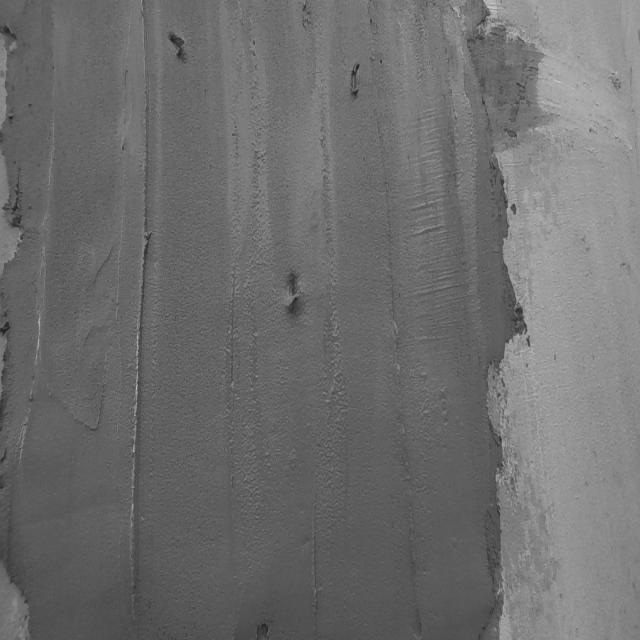trowels marks: (125, 0, 148, 629), (394, 324, 422, 580), (310, 508, 322, 620)
